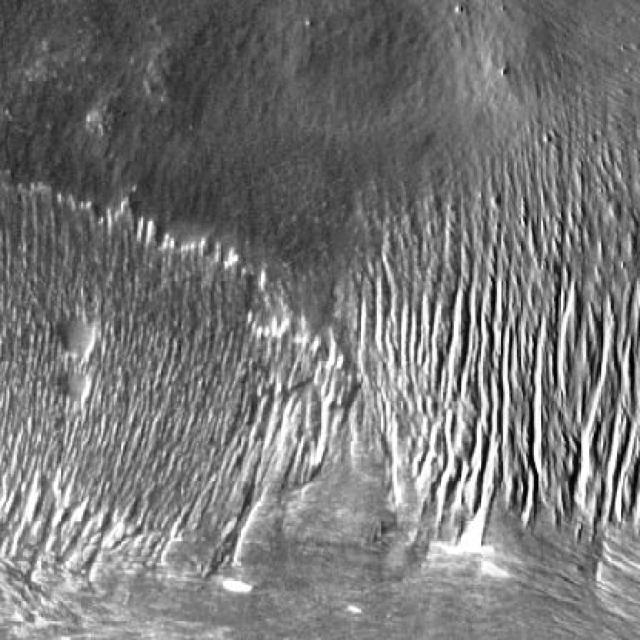crater: (58, 315, 100, 357), (64, 372, 95, 402)
